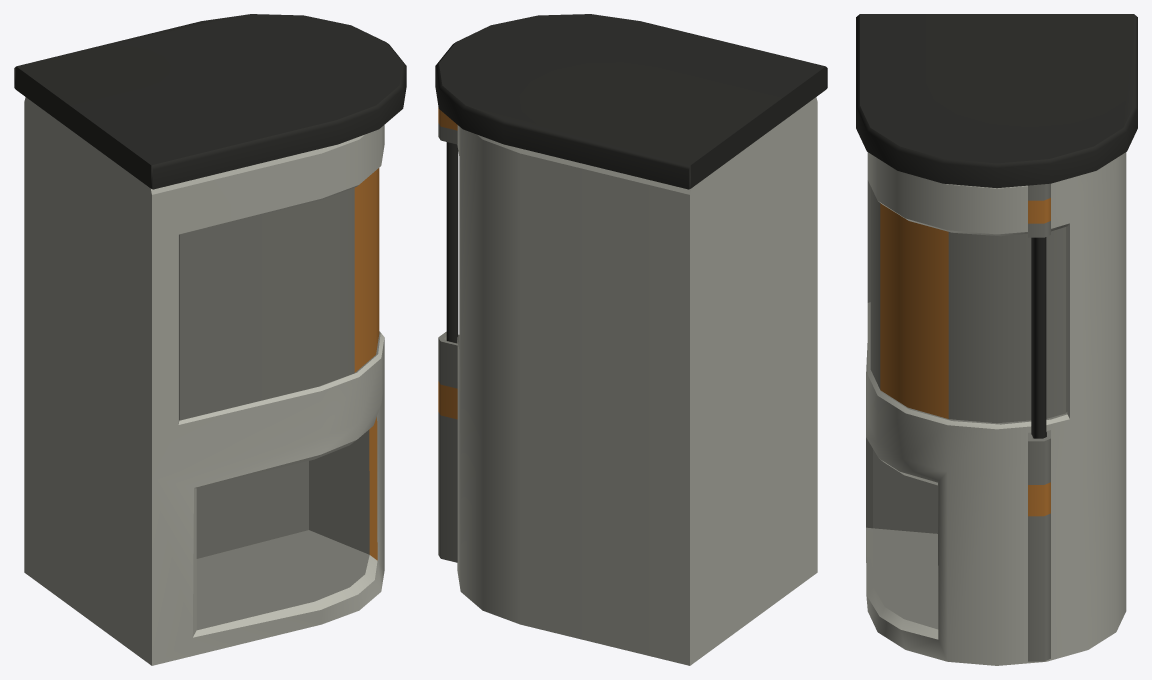
The model's file is GearVault.fbx.
The picture shows the model from 3 angles, left to right: view 1: azimuth 30°, elevation 25°; view 2: azimuth 150°, elevation 25°; view 3: azimuth 270°, elevation 25°; orthographic projection.
Visible parts, largest first — view 1: GearVault, GearVault_Door; view 2: GearVault, GearVault_Latch; view 3: GearVault, GearVault_Door, GearVault_Latch.
Part boxes in pixels (x1,y1,x2,y2): GearVault: (14, 14, 406, 665); GearVault_Door: (179, 168, 379, 420); GearVault: (435, 14, 827, 665); GearVault_Latch: (446, 142, 458, 343); GearVault: (856, 14, 1137, 665); GearVault_Door: (870, 186, 1067, 423); GearVault_Latch: (1031, 237, 1046, 438).
Size of the model in its own units: 2.77 by 4.36 by 2.18.
